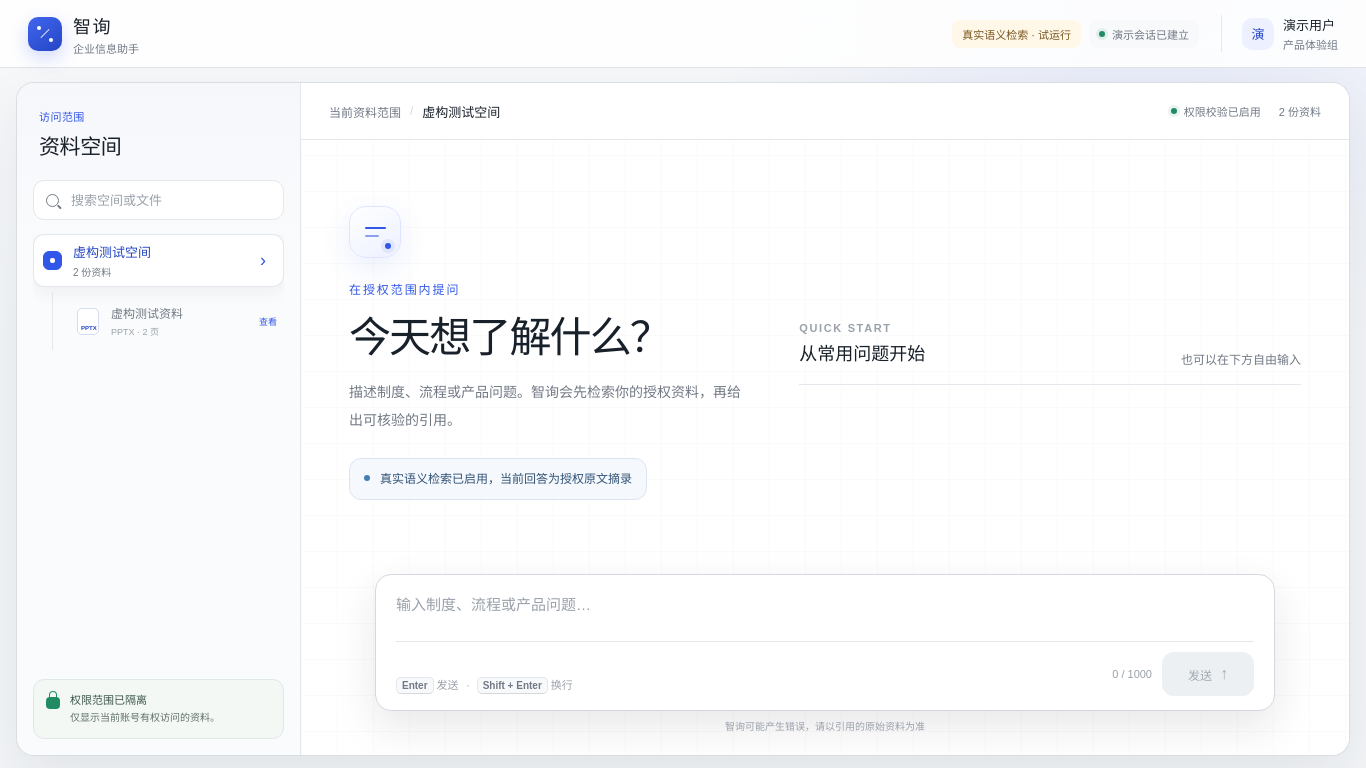
Test: MVP experience › opens an authorized source preview from the left file list
Click the button with class "is-file" at (177, 321), box [70, 295, 284, 347]
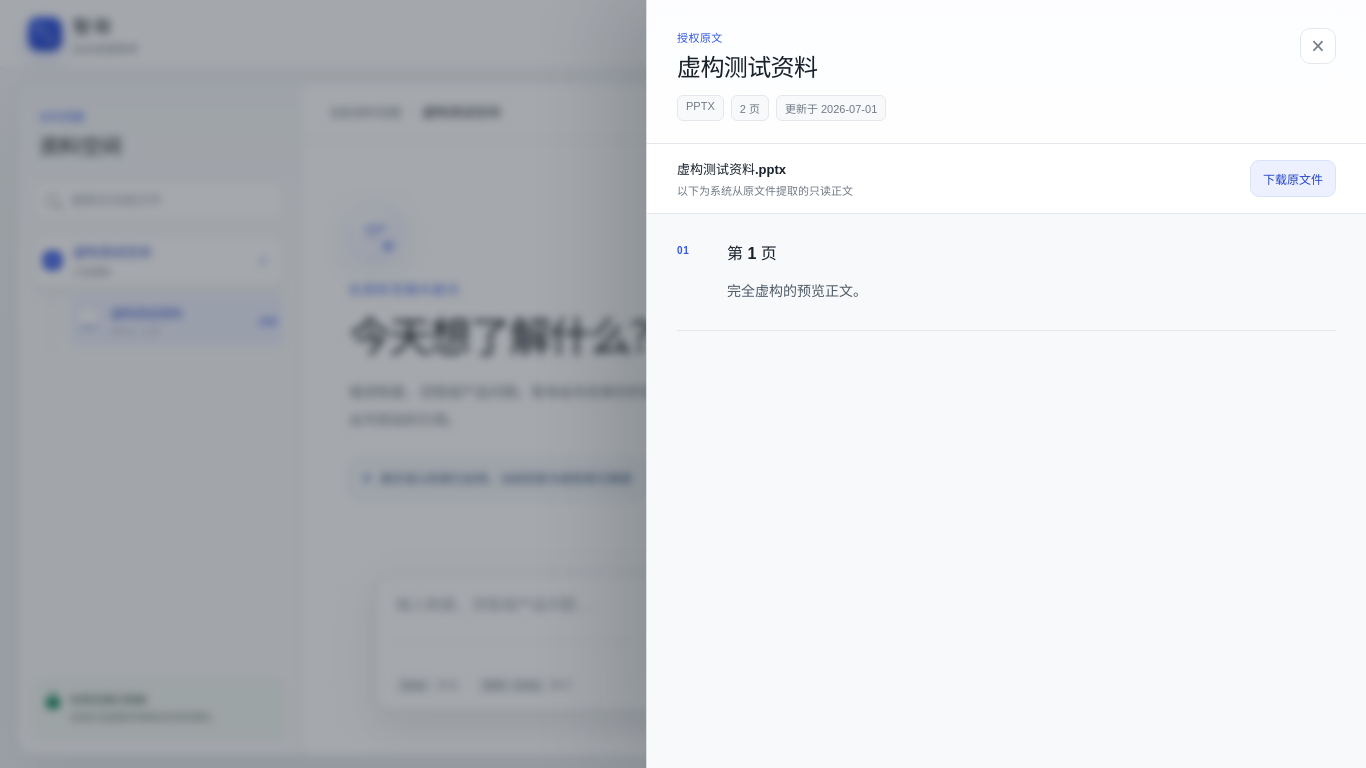
expect the text "完全虚构的预览正文。" is shown: met, box [727, 283, 867, 299]
